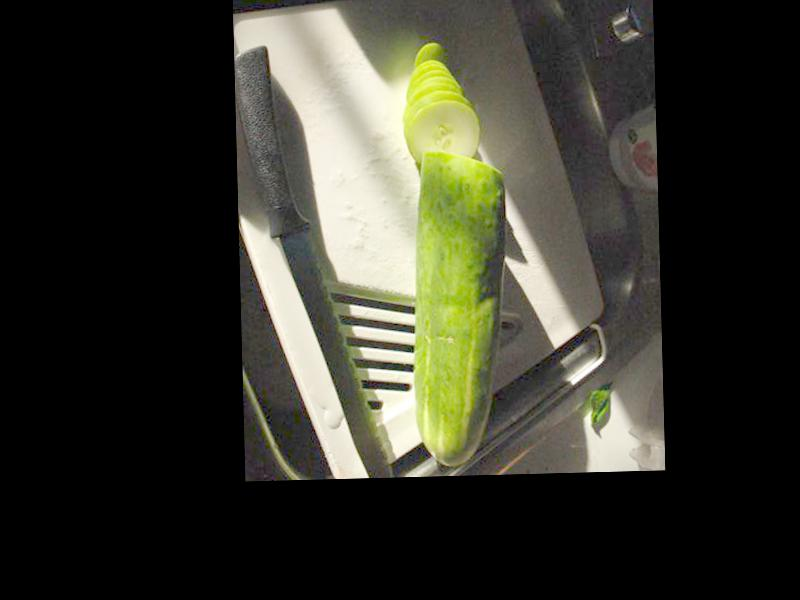Cucumber: (407, 147, 511, 467)
